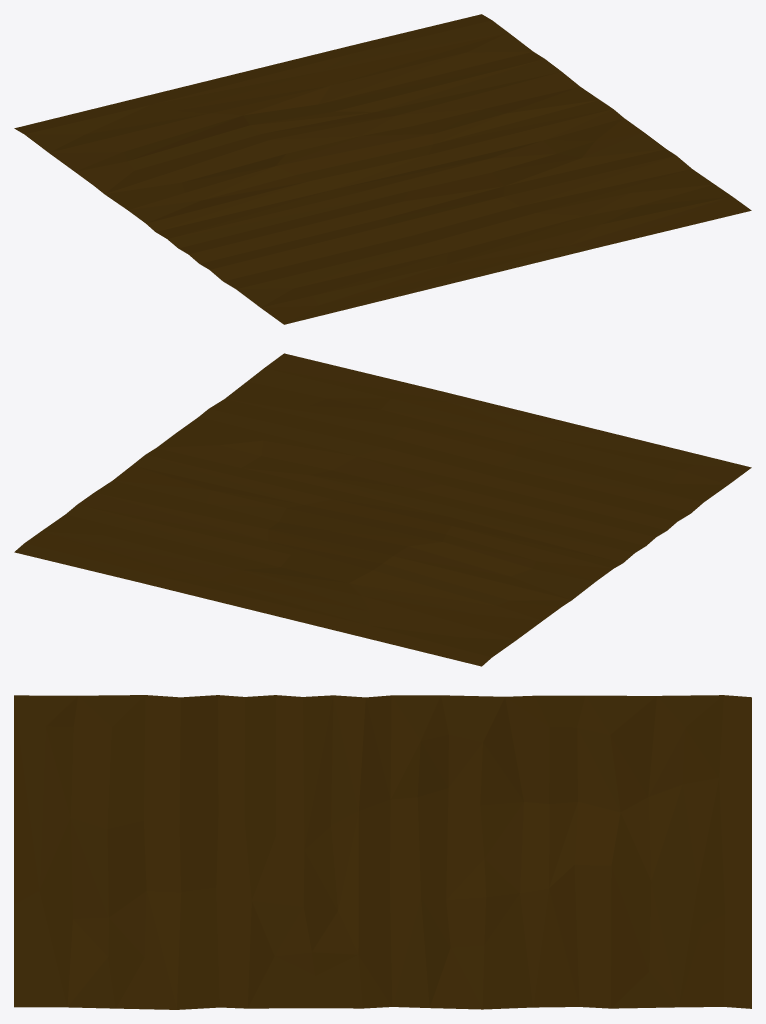
File: field.glb
3 renders of one model, top to bottom at view 1: azimuth 30°, elevation 25°; view 2: azimuth 150°, elevation 25°; view 3: azimuth 270°, elevation 25°, orthographic. The views are drawn at different scales.
Visible parts, largest first — view 1: Plane -col; view 2: Plane -col; view 3: Plane -col.
Boxes of the visible parts, x1,y1,x2,y2 form: Plane -col: (14, 14, 751, 324); Plane -col: (14, 353, 751, 666); Plane -col: (14, 695, 751, 1009).
Bounding box in the file's own units: 50 × 0.8538 × 50.
